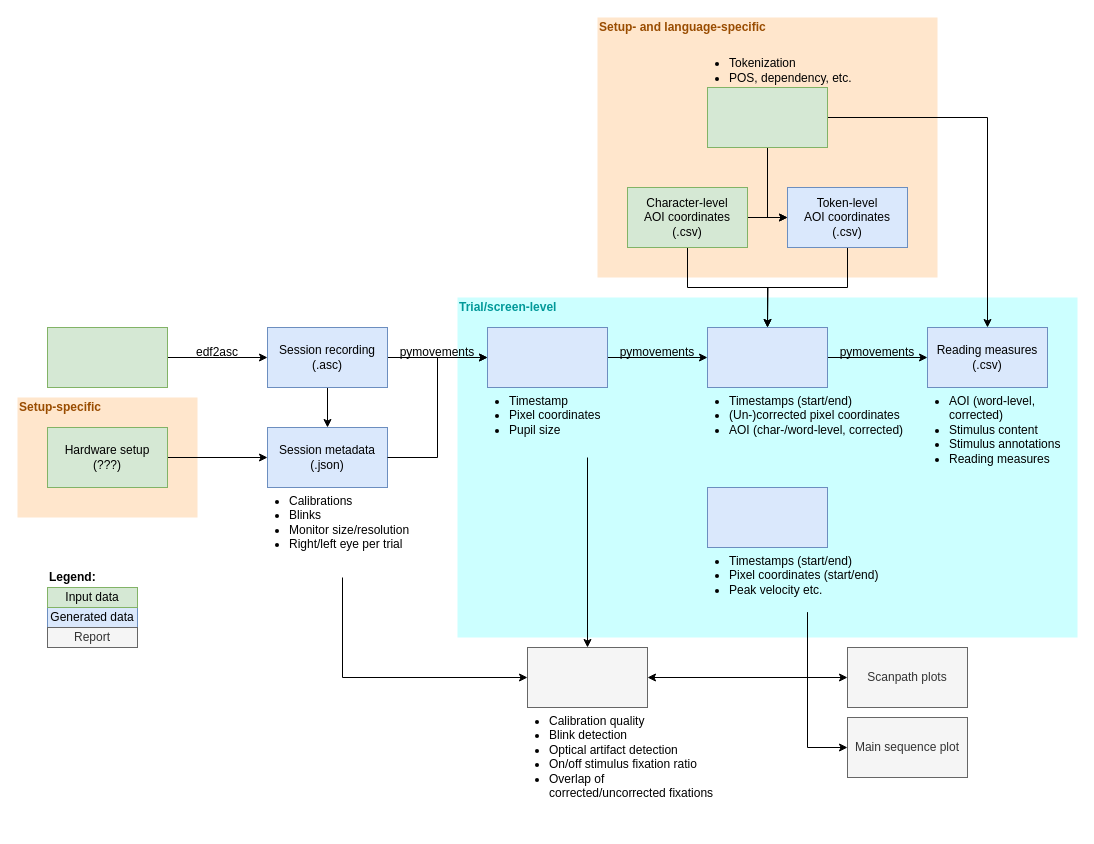
Image size: 1094x844. Some labels were removed from this diagram. The shapes that lost their labels are listed below. From the top down, each one's centre as x and y in pixels, then its label:
At point 767,117: "Stimulus annotations (???)".
At point 107,357: "Session recording (.edf)".
At point 547,357: "Raw samples (.csv)".
At point 767,357: "Fixations (.csv)".
At point 767,517: "Saccades (.csv)".
At point 587,677: "Quality checks".
